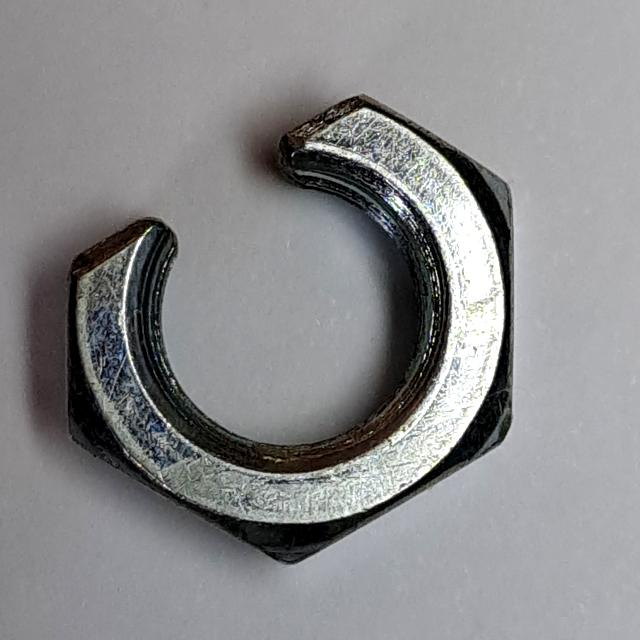Fracture: (57, 85, 530, 575)
